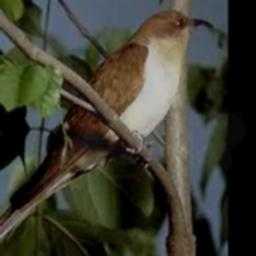Cuckoo: (0, 10, 214, 238)
